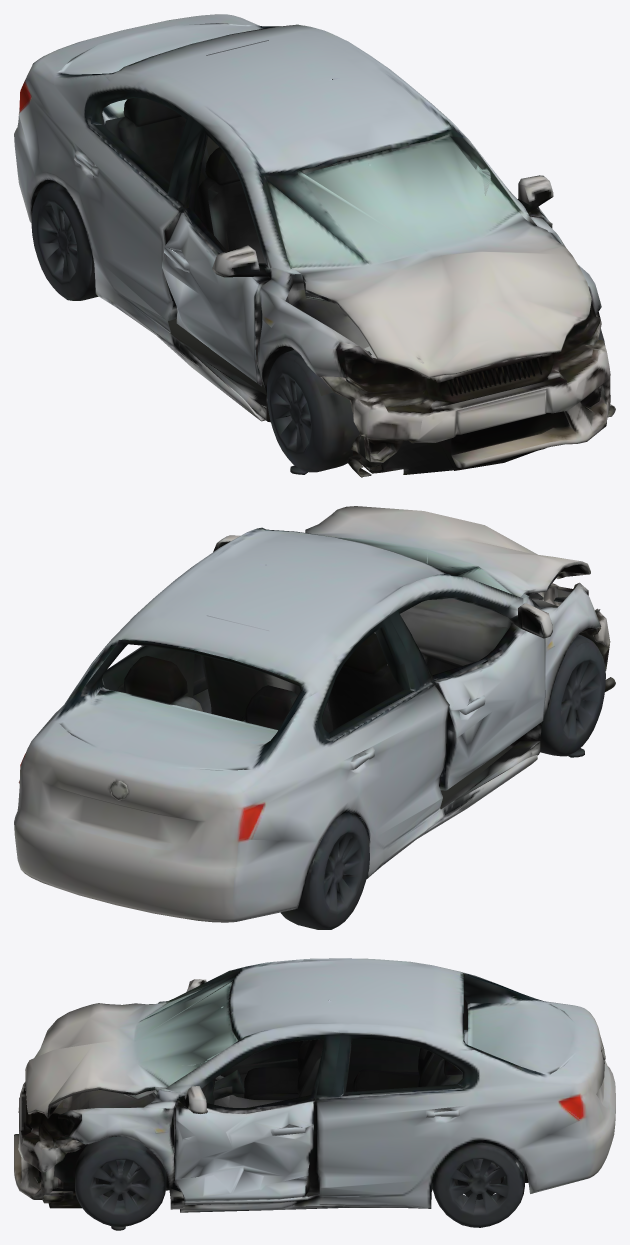
The model's file is crashed_car_f2b577ae_v1.glb.
The picture shows the model from 3 angles, top to bottom: view 1: azimuth 30°, elevation 25°; view 2: azimuth 150°, elevation 25°; view 3: azimuth 270°, elevation 25°; orthographic projection. The views are drawn at different scales.
Parts seen in each view (by area): view 1: material; view 2: material; view 3: material.
Boxes of the visible parts, box(x1,y1,x2,y2) form: material: box(14, 14, 615, 477); material: box(14, 506, 615, 929); material: box(14, 958, 615, 1230).
Size of the model in its own units: 0.9276 by 0.6617 by 1.9.
Materials: 1 (1 with a texture image).
